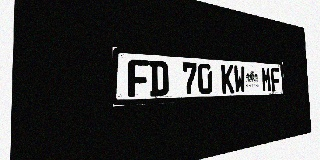0: (197, 63, 213, 95)
7: (181, 62, 198, 95)
D: (149, 60, 169, 96)
F: (128, 59, 149, 97), (271, 67, 280, 92)
K: (221, 65, 234, 94)
M: (261, 67, 272, 92)
W: (233, 65, 246, 93)
